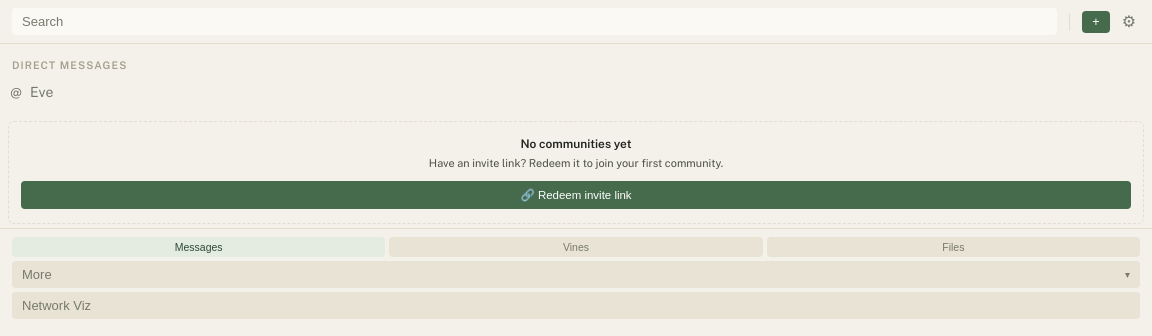
Test: NavPanel › Zero-community empty-state redeem CTA (ZEB-553 item 13) › hides the CTA while a search query is active (no-results state, not a zero-community home)
Expected: the text "No communities yet" is shown, [520,137,631,151]
Type "zzz" into the field with placeholder "Search". click: (535, 22)
box: [12,8,1057,35]
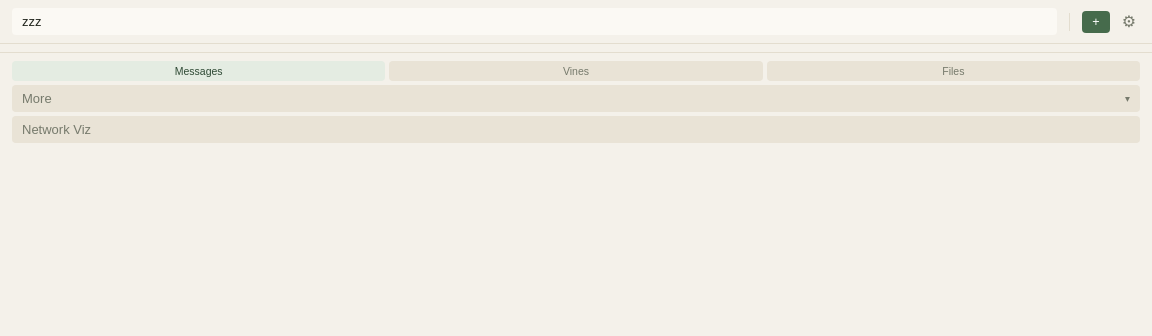
Expected: the text "No communities yet" is gone
